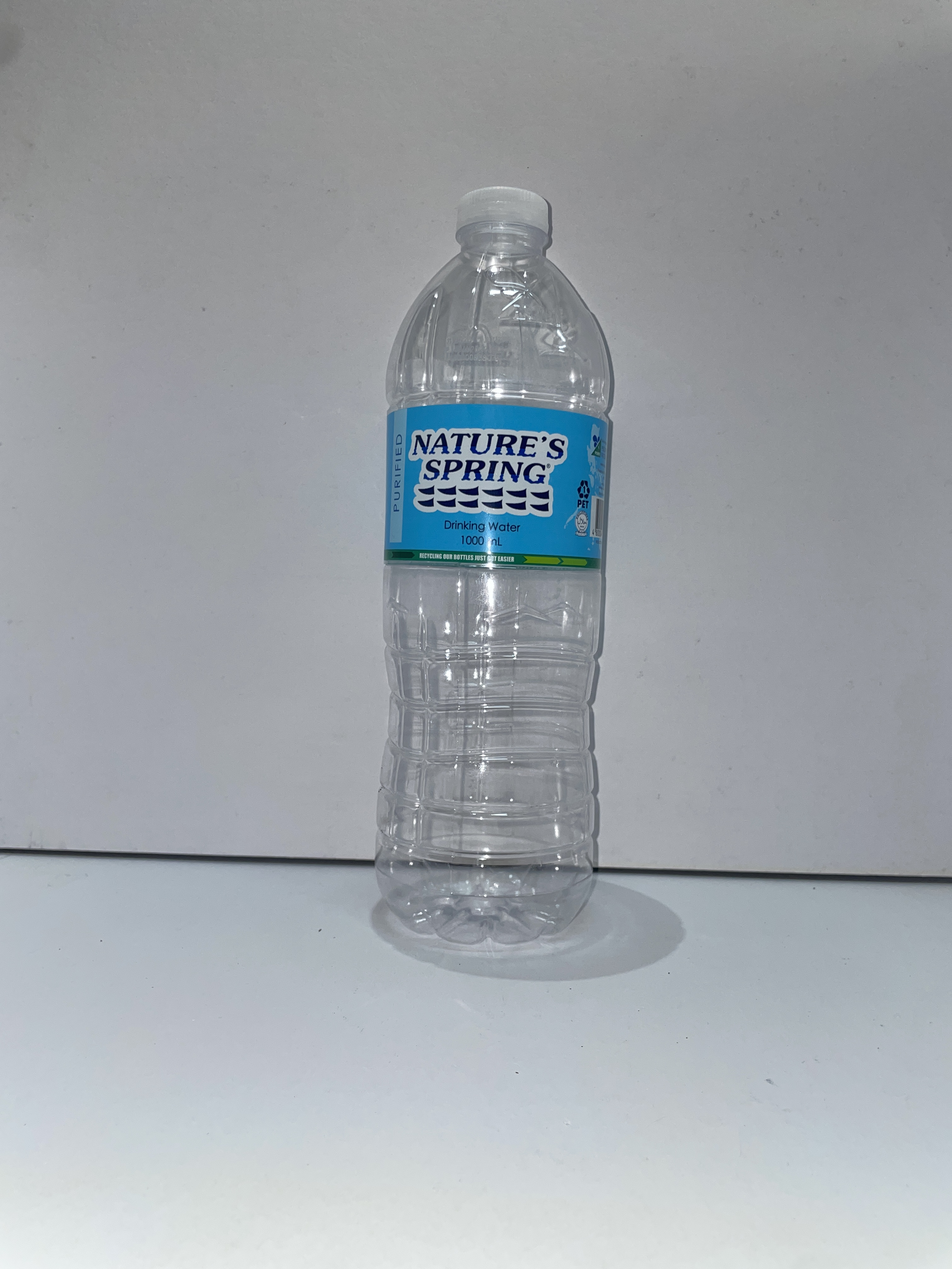Nature spring 1000ml: (376, 187, 611, 944)
